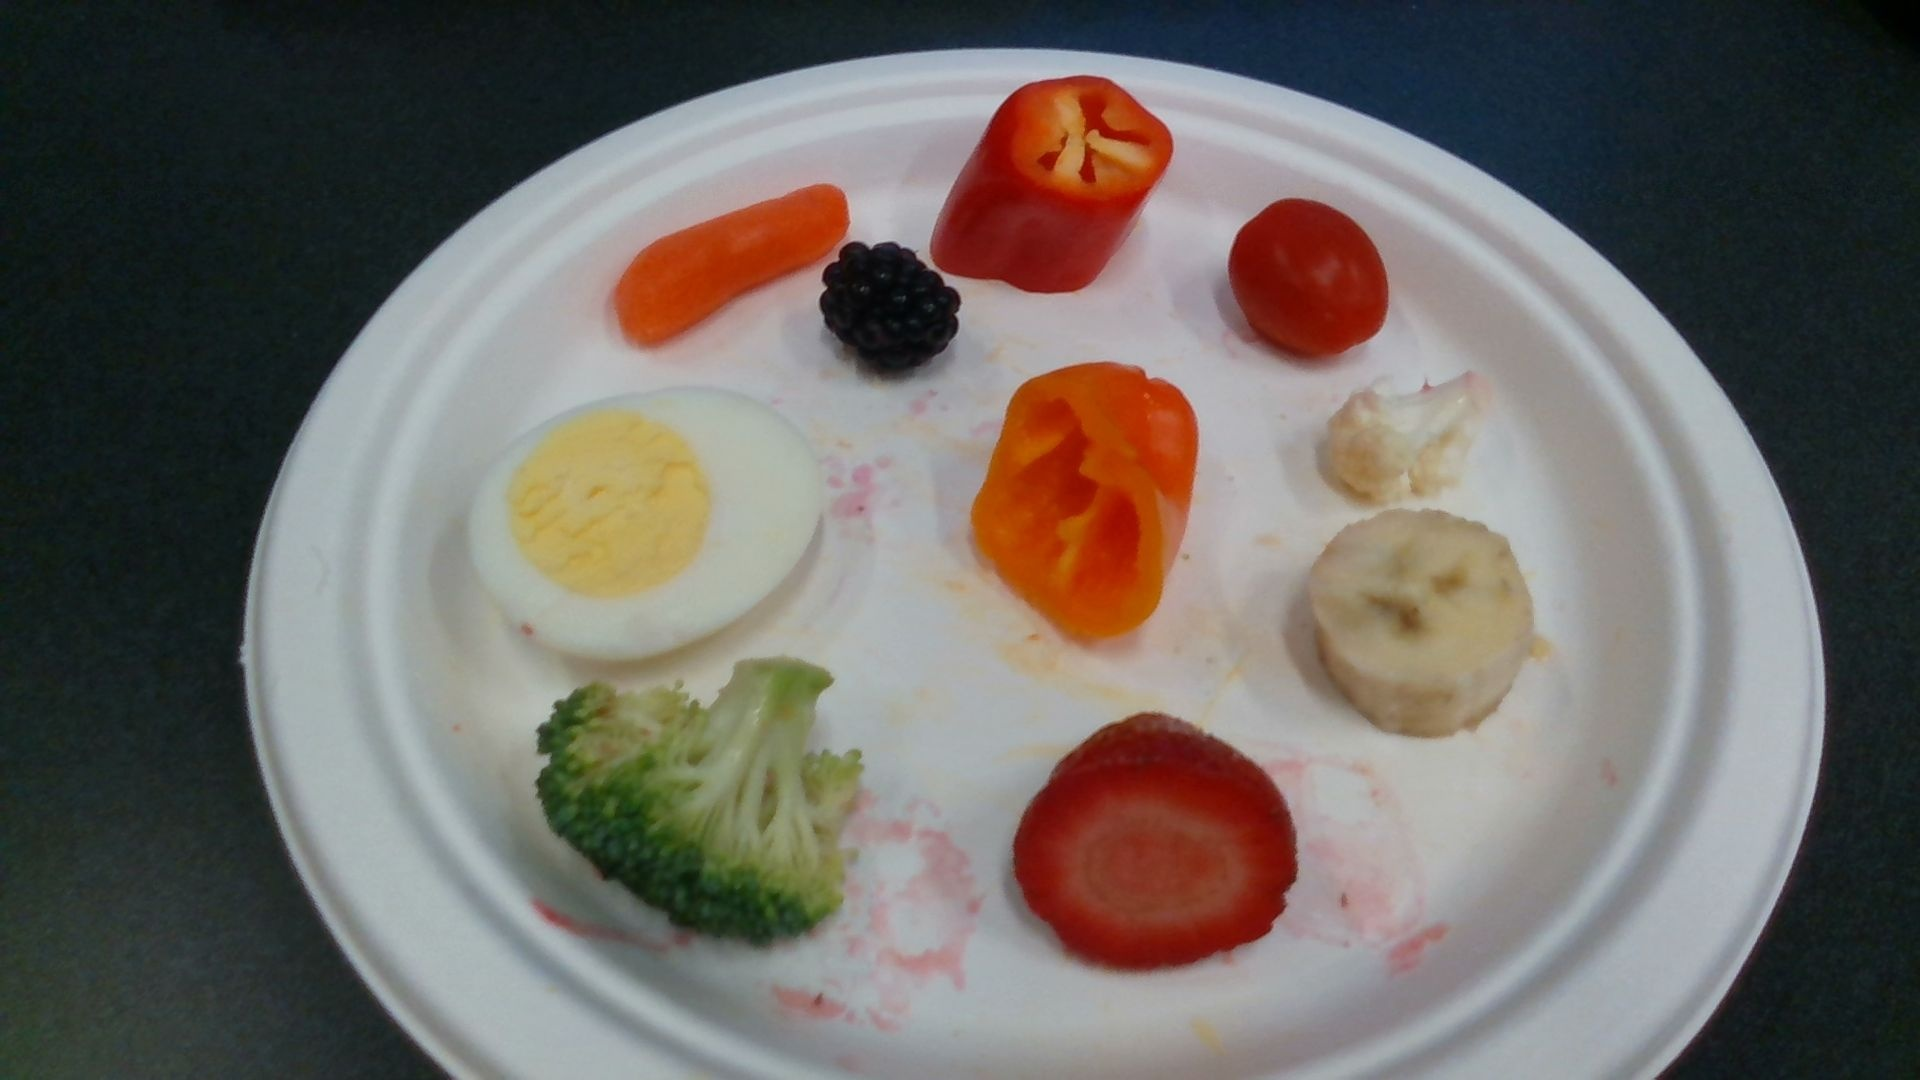banana: (1309, 512, 1532, 735)
bell_pepper: (975, 363, 1197, 641), (932, 78, 1174, 291)
blackberry: (825, 247, 959, 376)
broccoli: (537, 661, 860, 934)
carrot: (618, 190, 851, 340)
cauliflower: (1331, 375, 1497, 500)
cherry_tomato: (1230, 200, 1390, 356)
egg: (469, 390, 815, 658)
strawberry: (1014, 713, 1298, 971)
